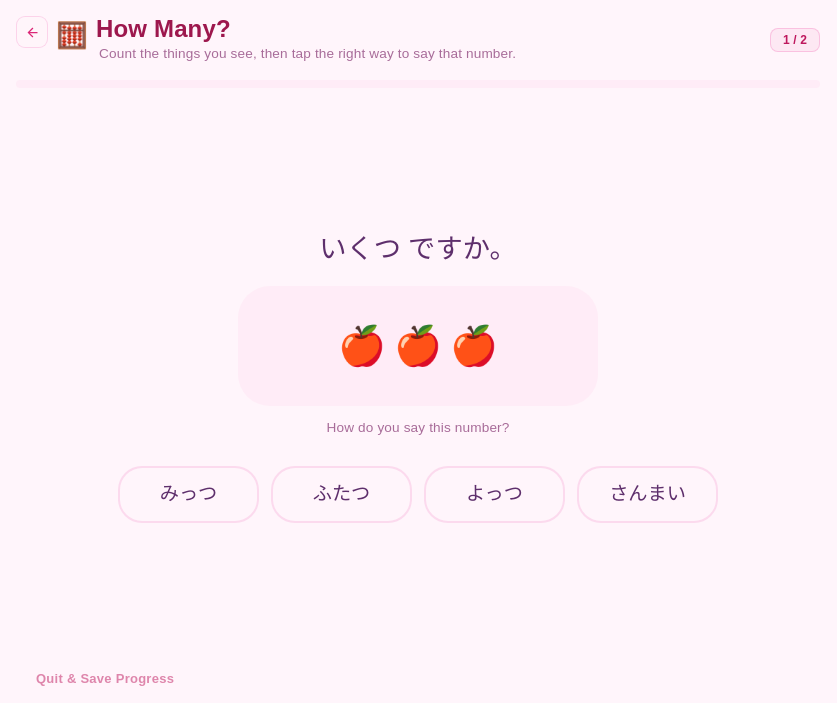
Test case: CounterGame › advances to the next round after a correct tap
Click the button "みっつ". click: (188, 494)
box: [118,466,259,523]
Wait 1600 ms
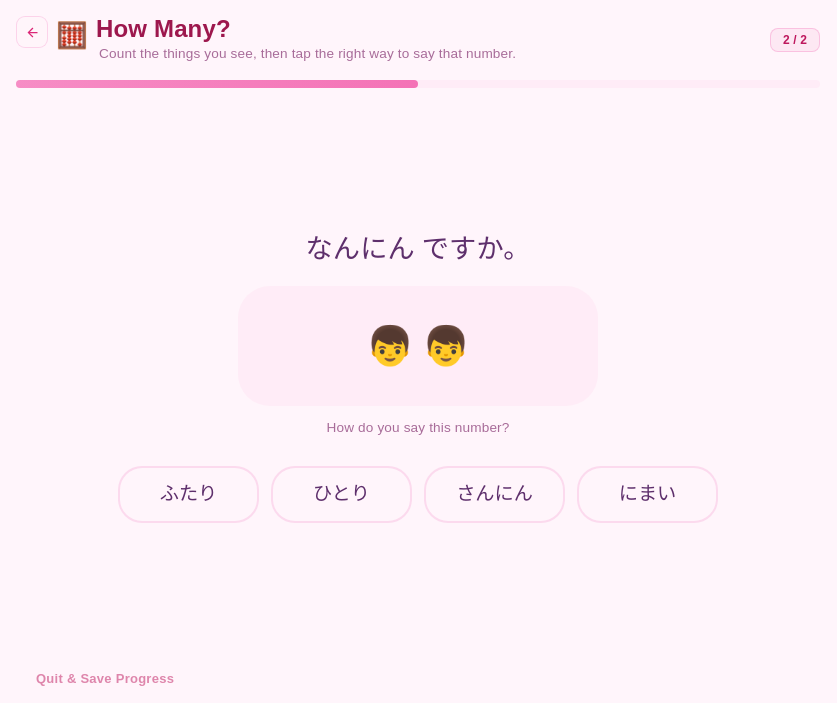
expect the picture named "2 boys" is shown: met, box [238,286,598,406]
expect the text "なんにん ですか。" is shown: met, box [306,234,530,264]
